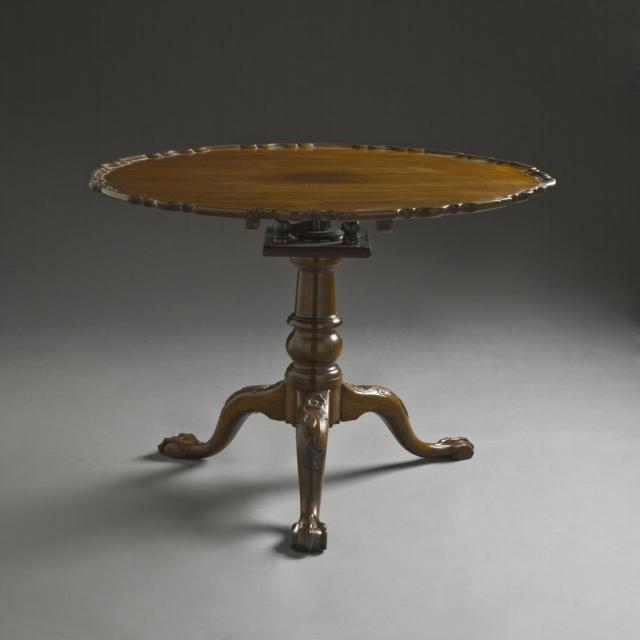table: (88, 142, 559, 554)
